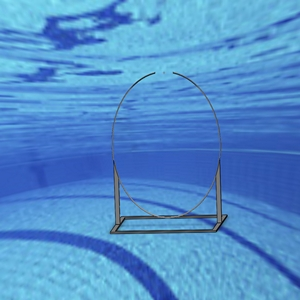circle: (109, 66, 229, 234)
